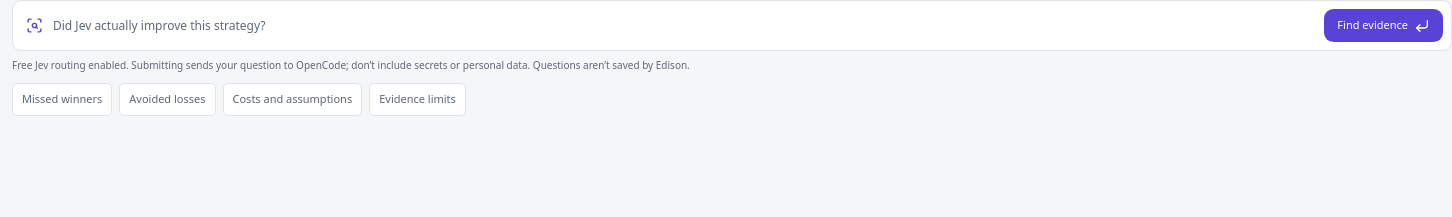
Scenario: bounded question feedback routes only supported output
In the field: coordinates (683, 26) left=53, top=8, right=1313, bottom=42, type "Did AI help?"
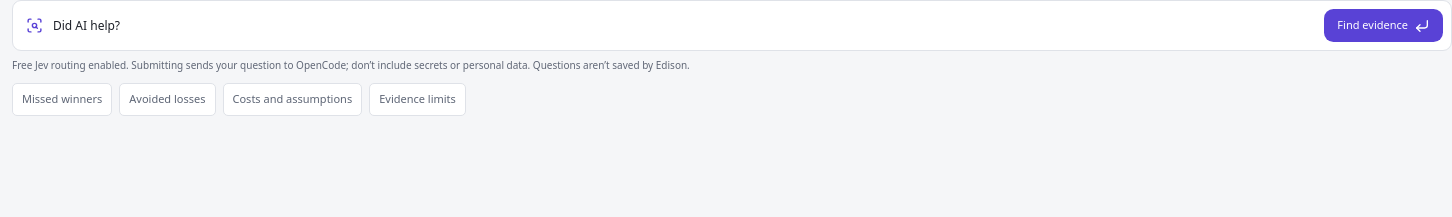
Click the button "Find evidence": coordinates (1384, 26) left=1323, top=8, right=1444, bottom=43
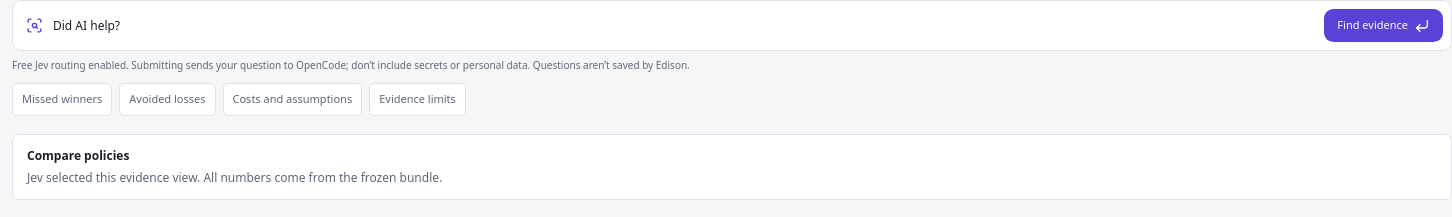
Now the text "Compare policies" is shown, box left=27, top=147, right=129, bottom=164
Now the text "All numbers come from the frozen bundle" is shown, box left=27, top=169, right=442, bottom=186
